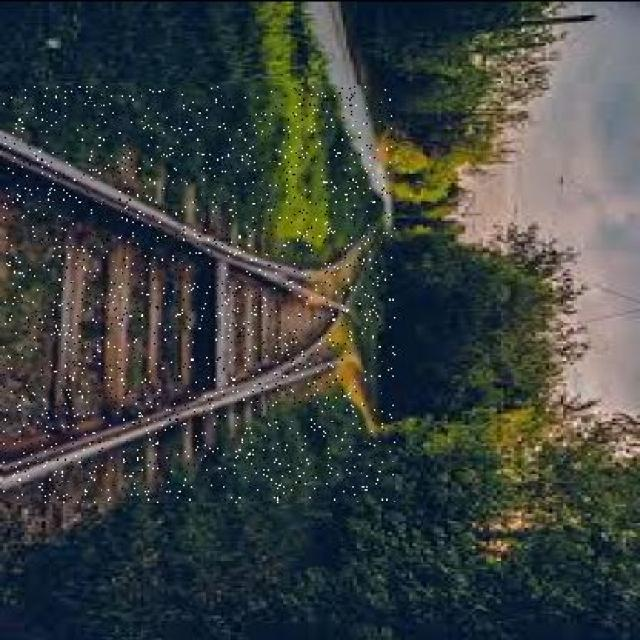rail: (3, 85, 395, 501)
